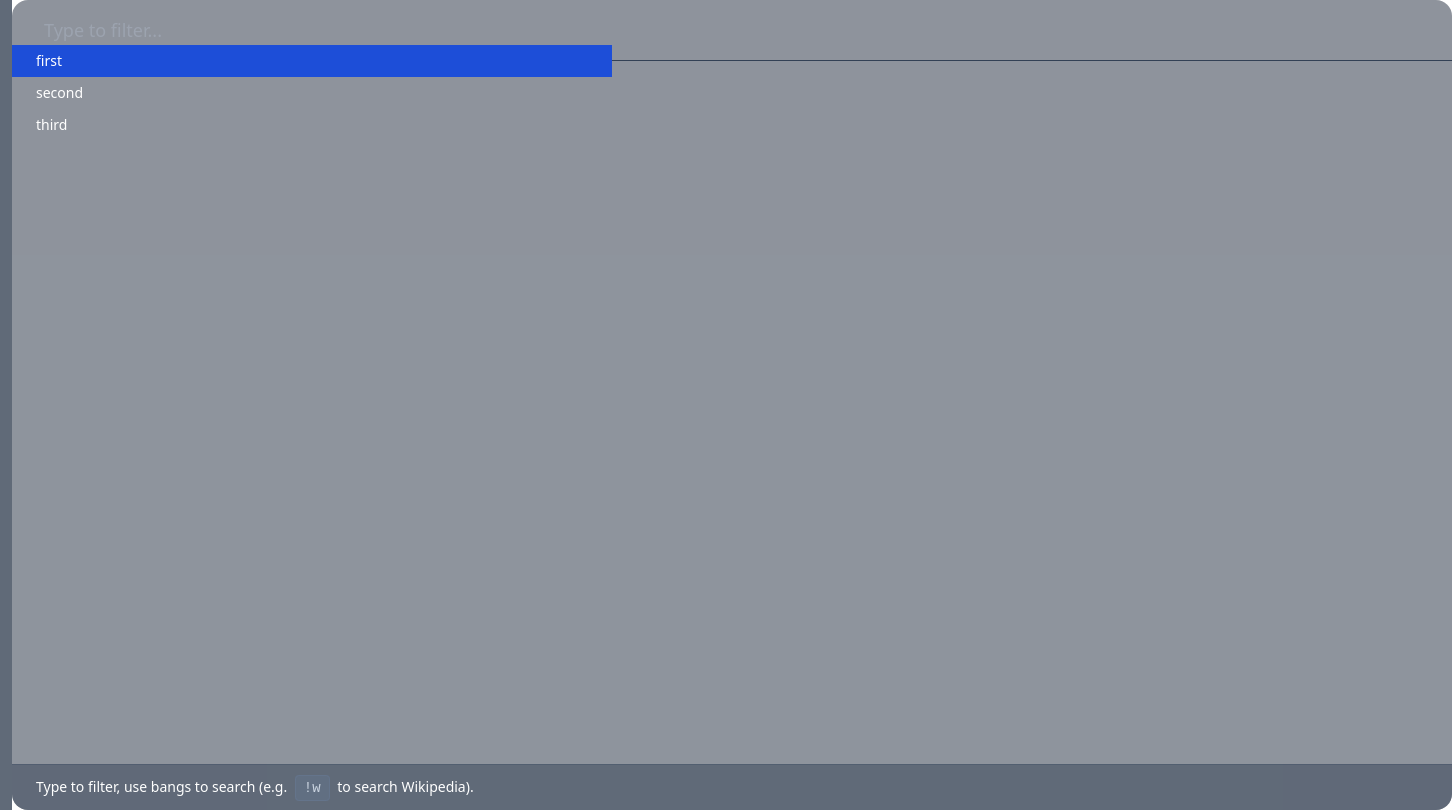
Scenario: Palette container › can use the calendar bang
In the field with test id "filter-input" showing "Type to filter...": [732, 30] box left=28, top=8, right=1436, bottom=52, type "!cal"
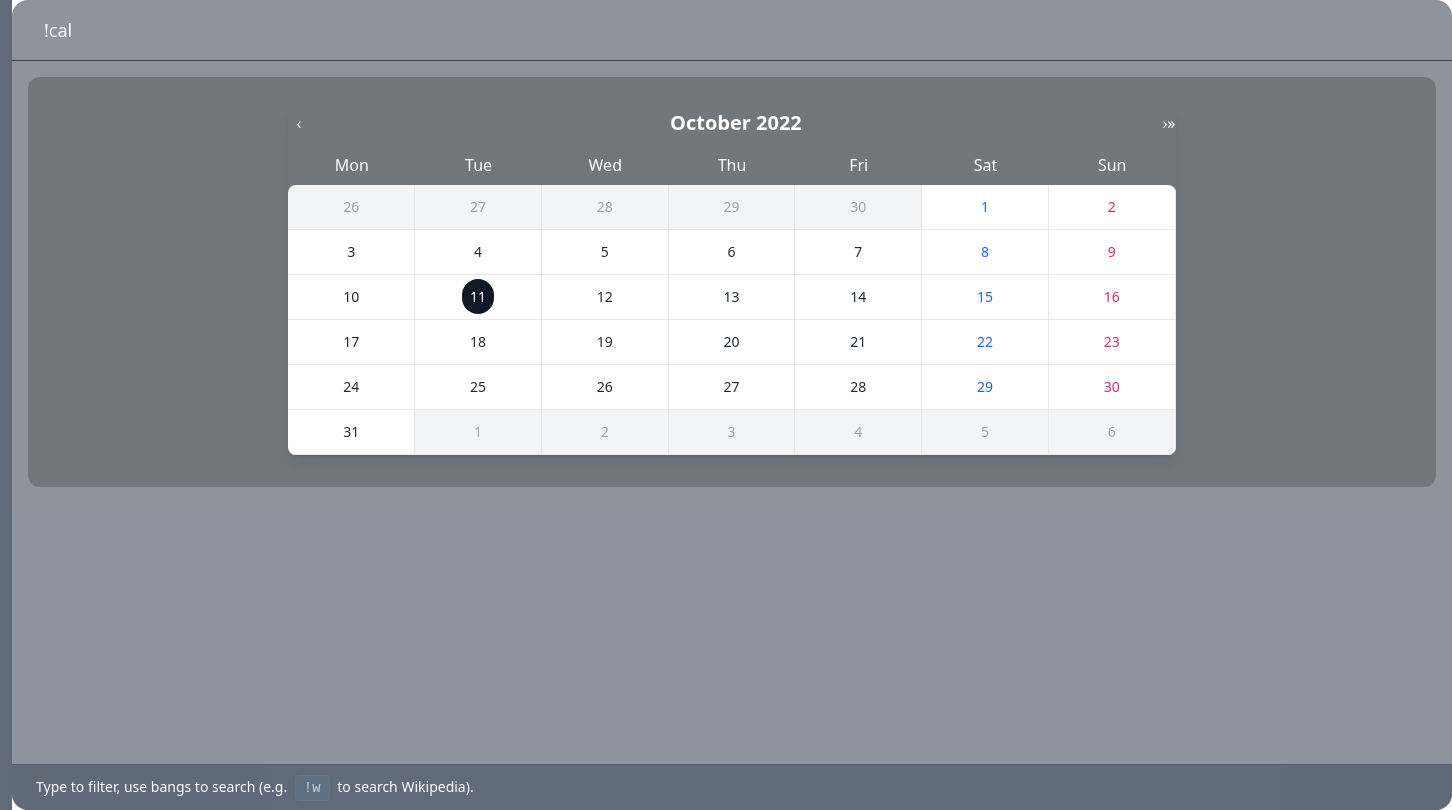
Expected: the text "Mon" is shown, left=335, top=153, right=369, bottom=177
